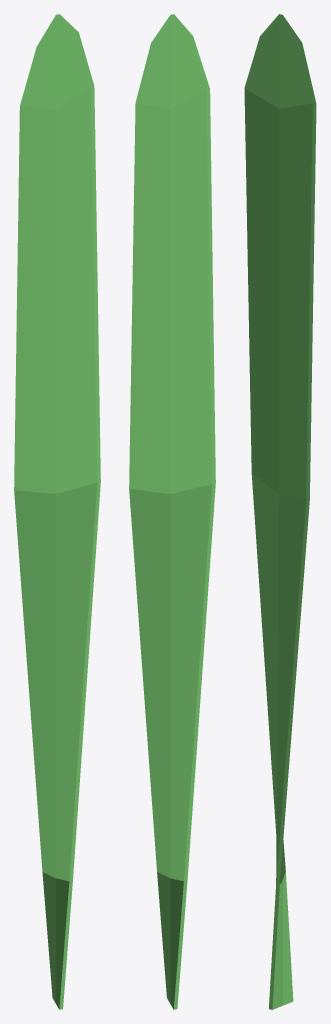
File: alga ministatic.fbx
3 views of the same model, side by side, from view 1: azimuth 30°, elevation 25°; view 2: azimuth 210°, elevation 25°; view 3: azimuth 330°, elevation 25° (orthographic).
Parts seen in each view (by area): view 1: Plane.000; view 2: Plane.000; view 3: Plane.000.
Part boxes in pixels (bbox=[...]): Plane.000: bbox=[14, 14, 100, 1009]; Plane.000: bbox=[129, 14, 215, 1009]; Plane.000: bbox=[244, 14, 316, 1009].
Bounding box in the file's own units: 107 × 1385 × 41.83.
